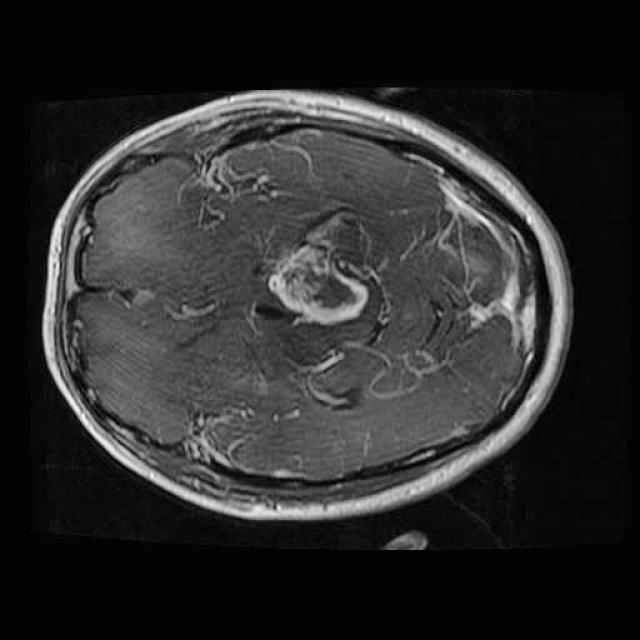Tumor: (255, 222, 389, 342)
